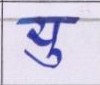u_matra: (24, 46, 65, 68)
